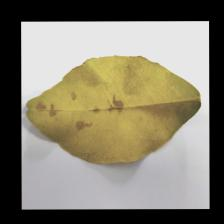black spot: (36, 94, 128, 132)
